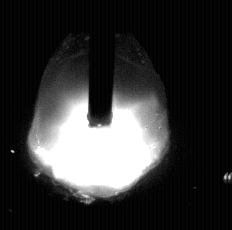arame: (89, 0, 114, 127)
poca: (28, 0, 170, 230)
